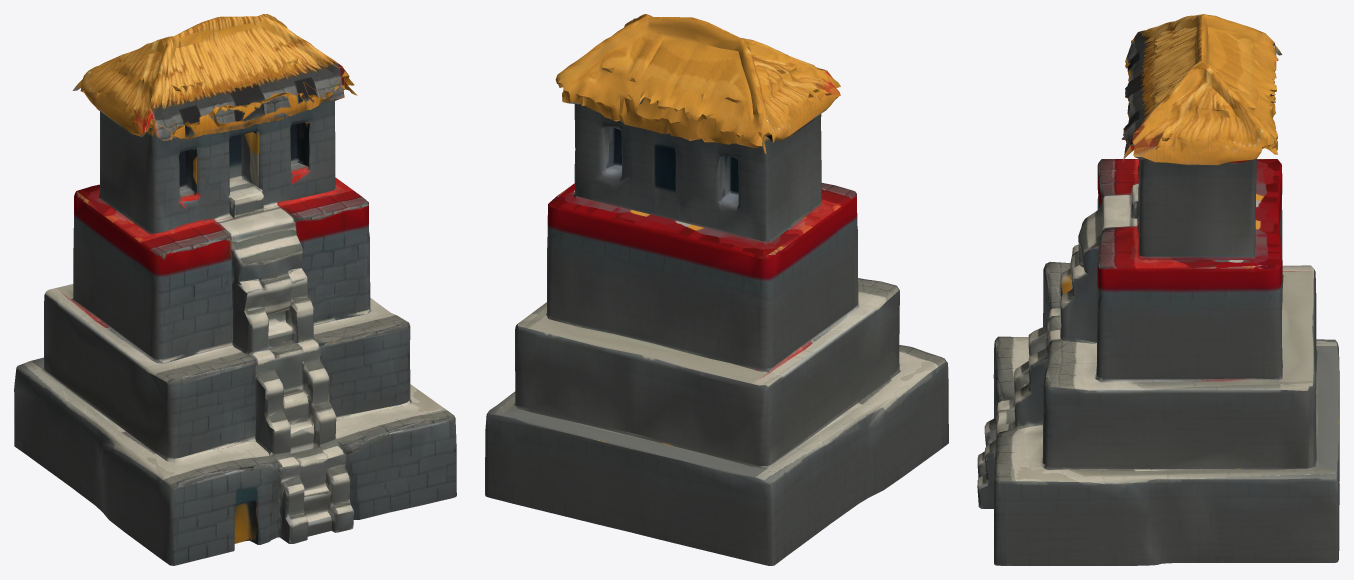
The model's file is tawantinsuyu_ushnu.glb.
3 renders of one model, left to right at view 1: azimuth 30°, elevation 25°; view 2: azimuth 150°, elevation 25°; view 3: azimuth 270°, elevation 25°, orthographic. The views are drawn at different scales.
Visible parts, largest first — view 1: geometry_0; view 2: geometry_0; view 3: geometry_0.
Boxes of the visible parts, x1,y1,x2,y2 form: geometry_0: [14, 14, 456, 565]; geometry_0: [485, 14, 948, 565]; geometry_0: [977, 14, 1339, 565].
Bounding box in the file's own units: 3.27 × 4.8 × 3.4.
Materials: 1 (1 with a texture image).
